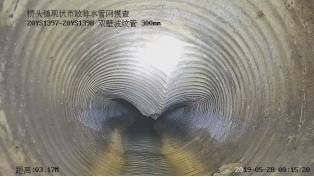BX: (94, 45, 222, 122)
